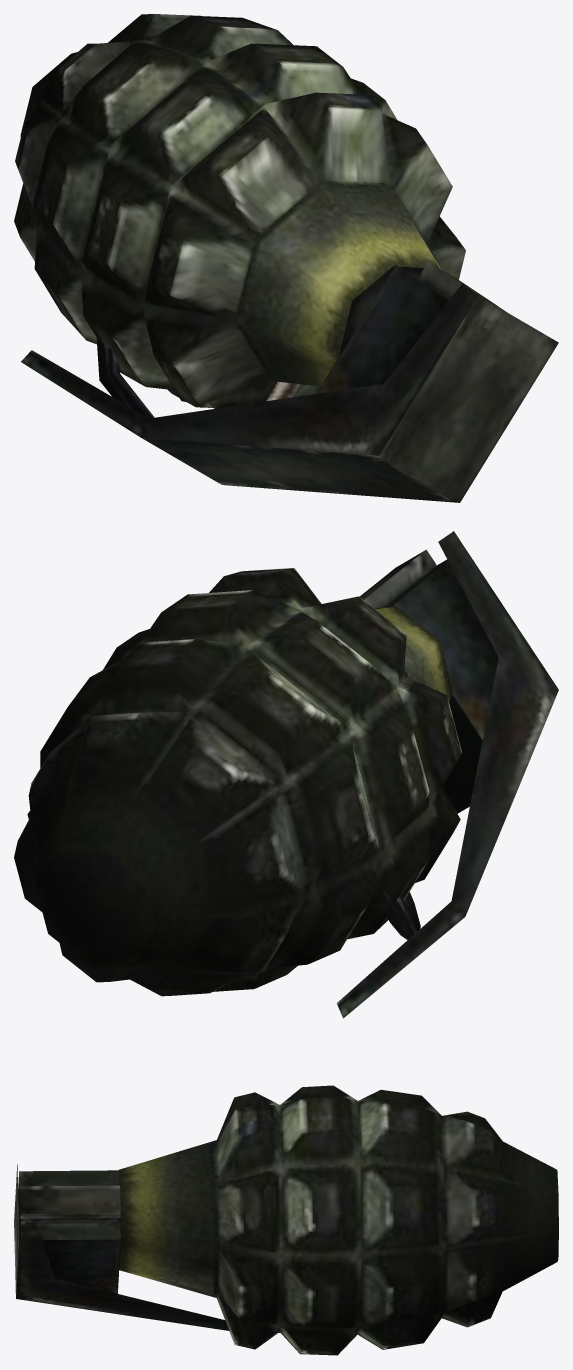
File: viewmodel_mk2.glb
3 views of the same model, one above another, from view 1: azimuth 30°, elevation 25°; view 2: azimuth 150°, elevation 25°; view 3: azimuth 270°, elevation 25° (orthographic). The views are drawn at different scales.
Bounding box in the file's own units: 1.98 × 2.16 × 3.97.
Materials: 1 (1 with a texture image).
